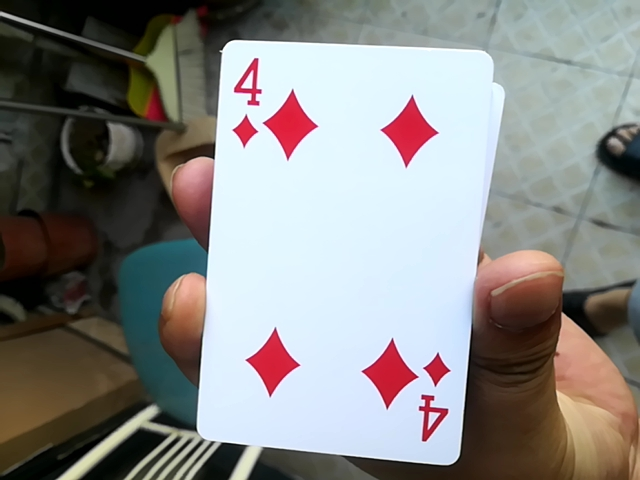fk 4: (180, 45, 494, 465)
